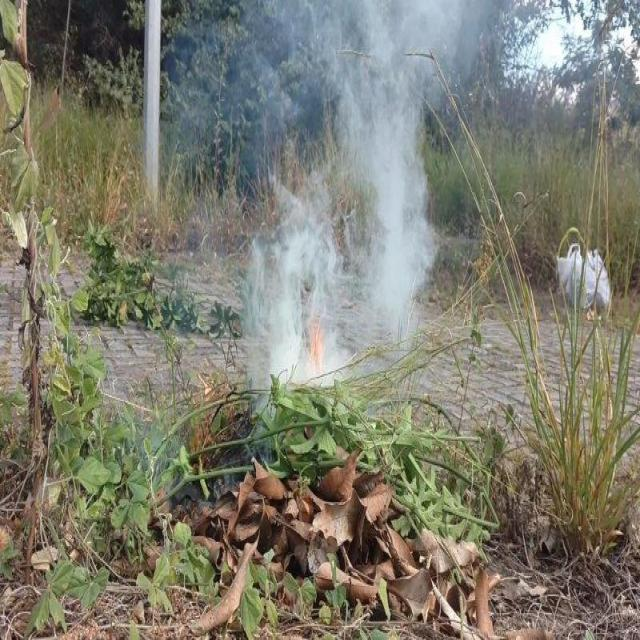smoke: (360, 11, 428, 339), (264, 205, 337, 375)
